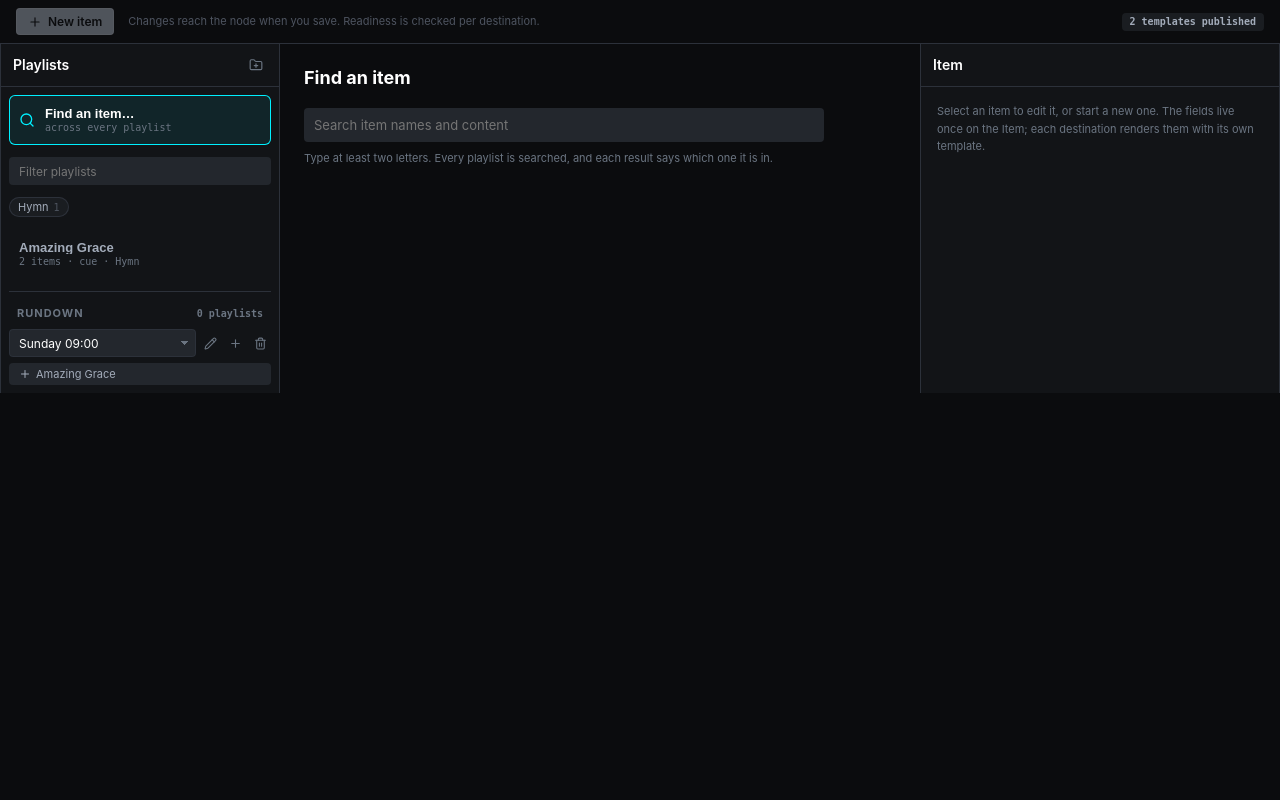
a named order is a list of GROUPS, and the slides go read-only
This screenshot has width=1280, height=800.
Click the text "Amazing Grace" at (66, 248), box [19, 240, 114, 255]
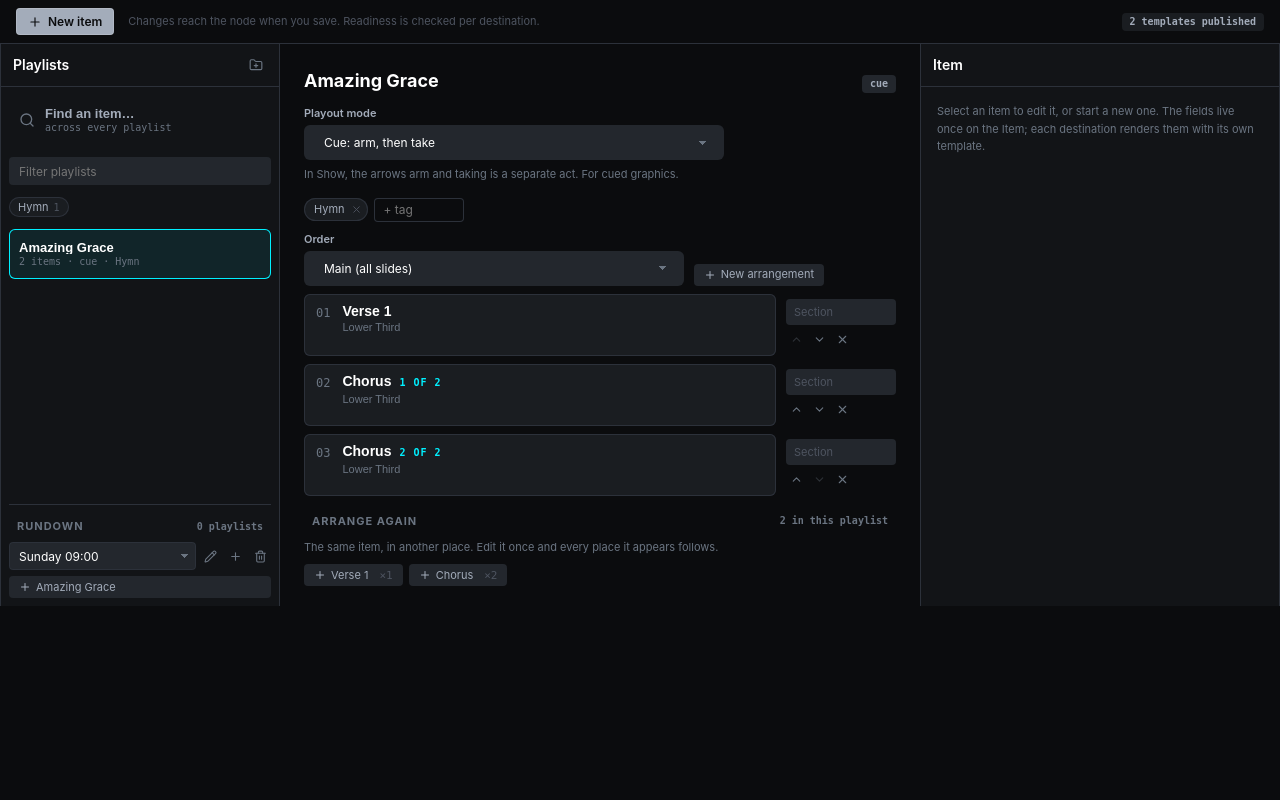
Check: the field named "Playlist name" is shown, box [296, 64, 850, 96]
Check: the field named "Section for " is enabled, box [786, 299, 896, 325]
Select "Short" in the dropdown named "Arrangement" at (494, 268), box [314, 251, 674, 286]
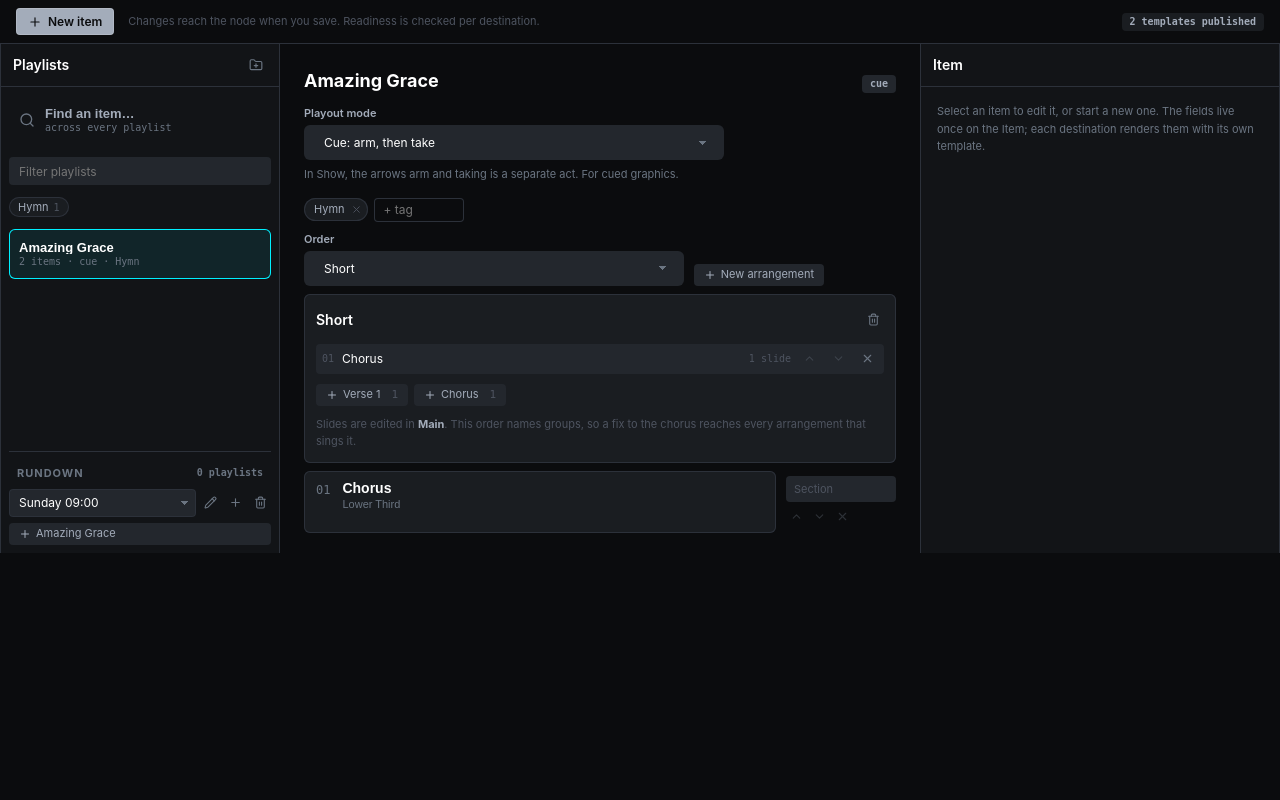
Check: the field named "Arrangement name" is shown, box [308, 306, 855, 334]
Check: the list named "Group order" is shown, box [316, 344, 884, 374]
Check: the button named "Remove Chorus at 1" is shown, box [857, 348, 878, 369]
